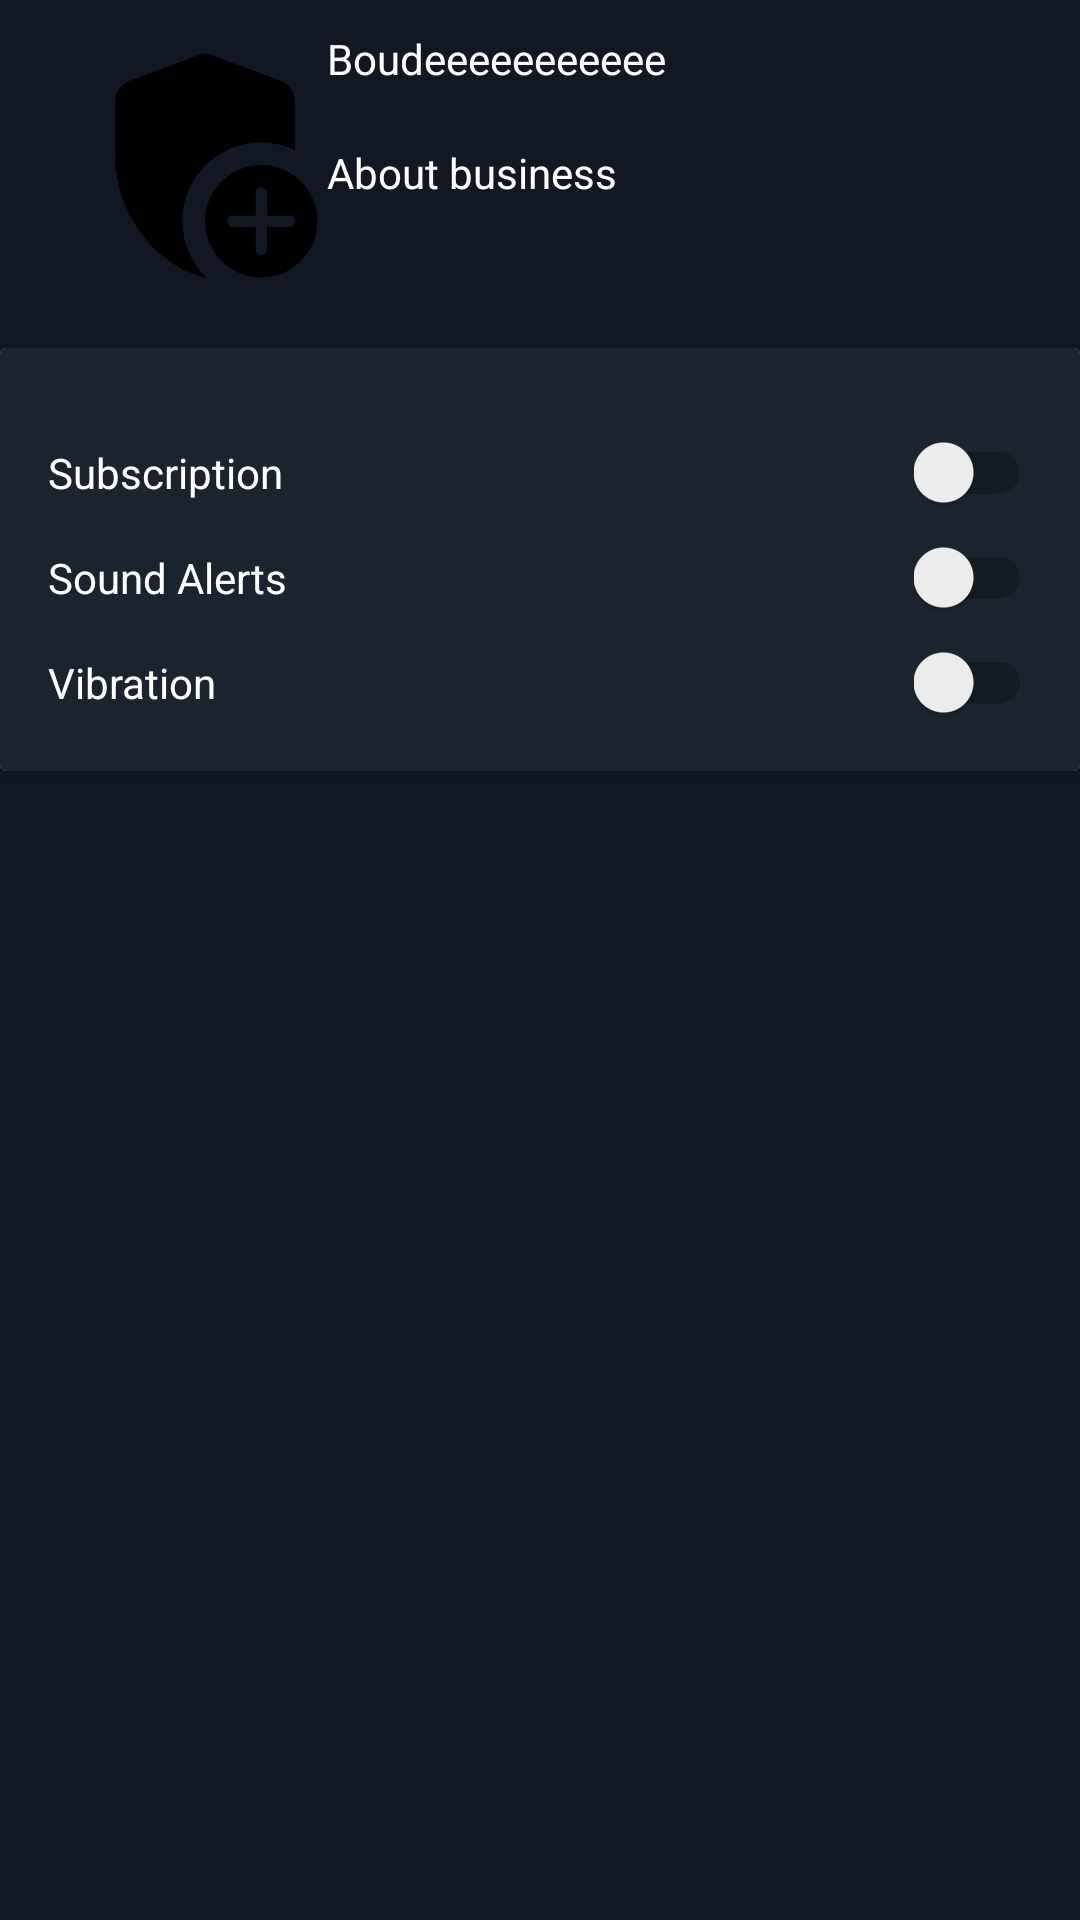

Locate icon controls on the screen. Image size 1080px×1920px, boxes as (x1=x1, y1=y1, x2=x2, y2=y2).
add moderator: (x1=115, y1=54, x2=317, y2=277)
